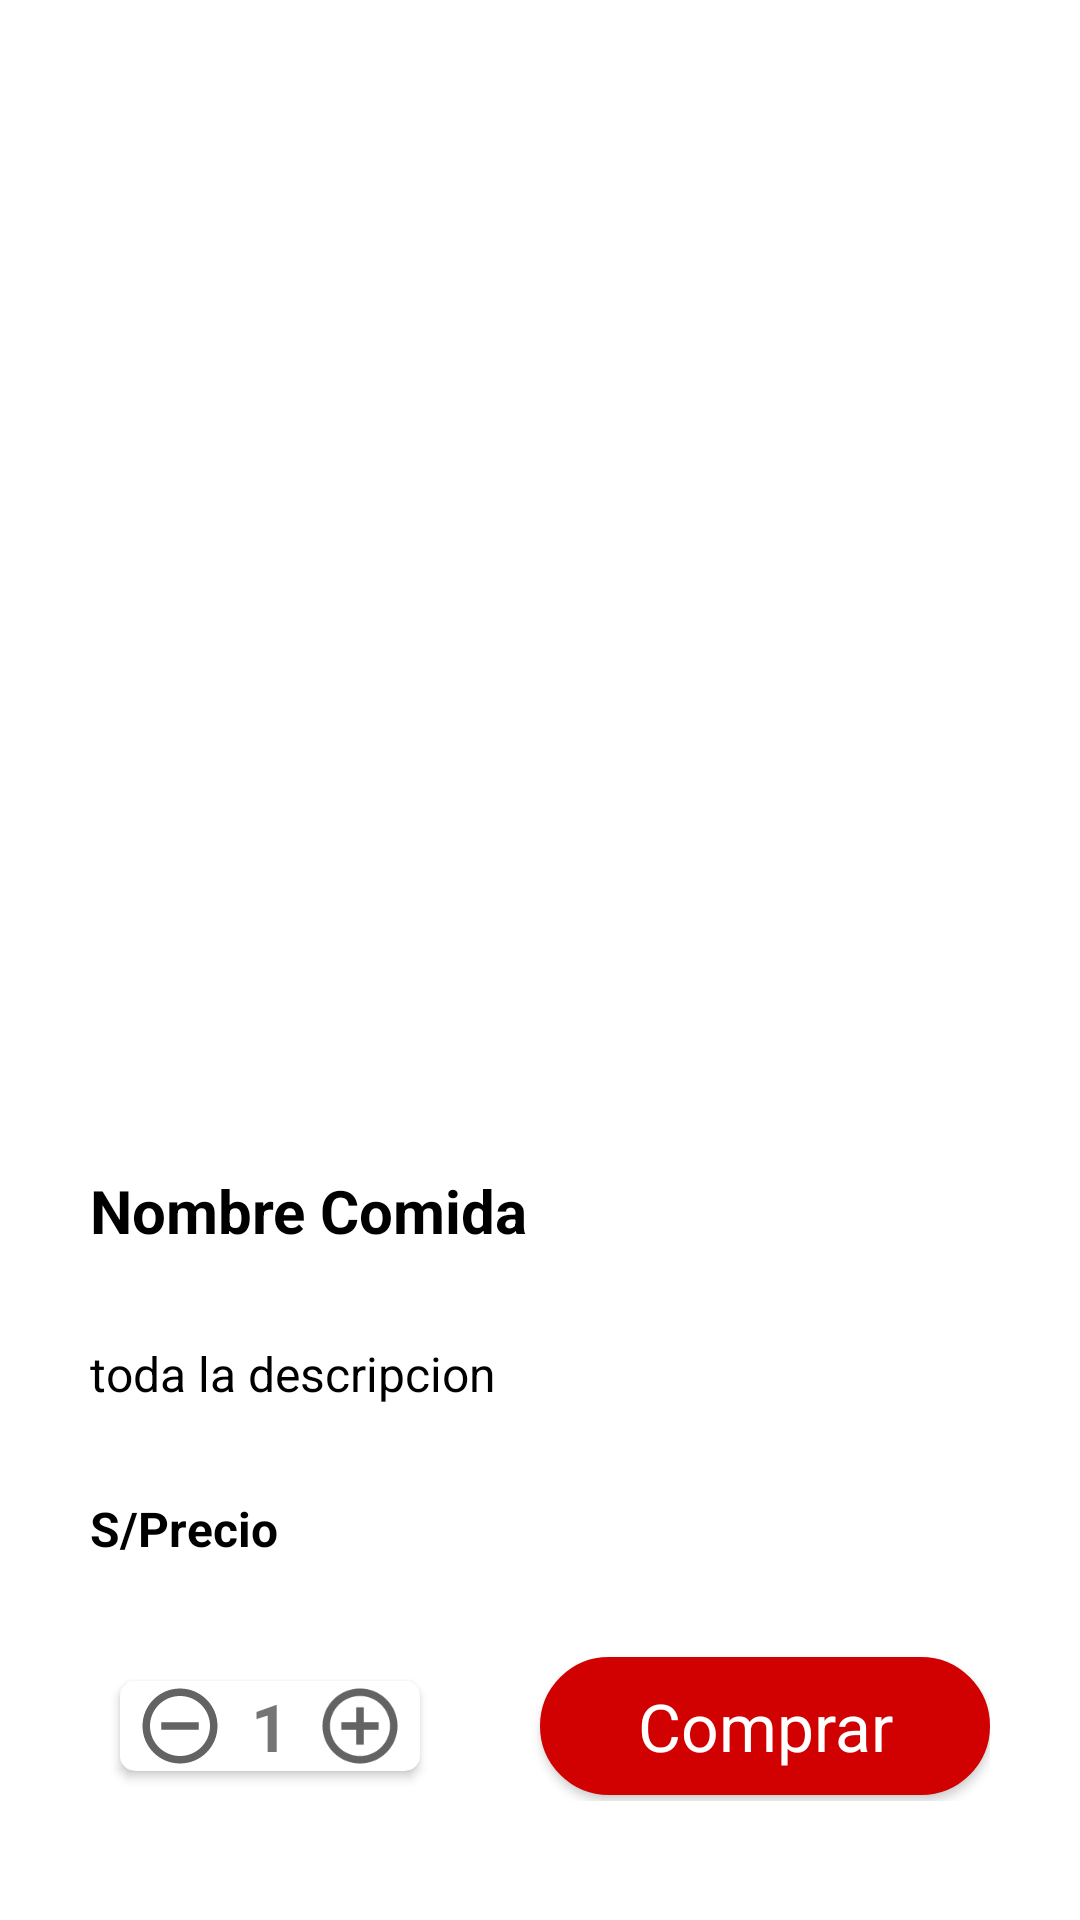

Point at icon controls on the screen. Image size 1080px x 1920px, points as (x=x, y=y).
mas: (x=360, y=1726)
menos: (x=180, y=1726)
